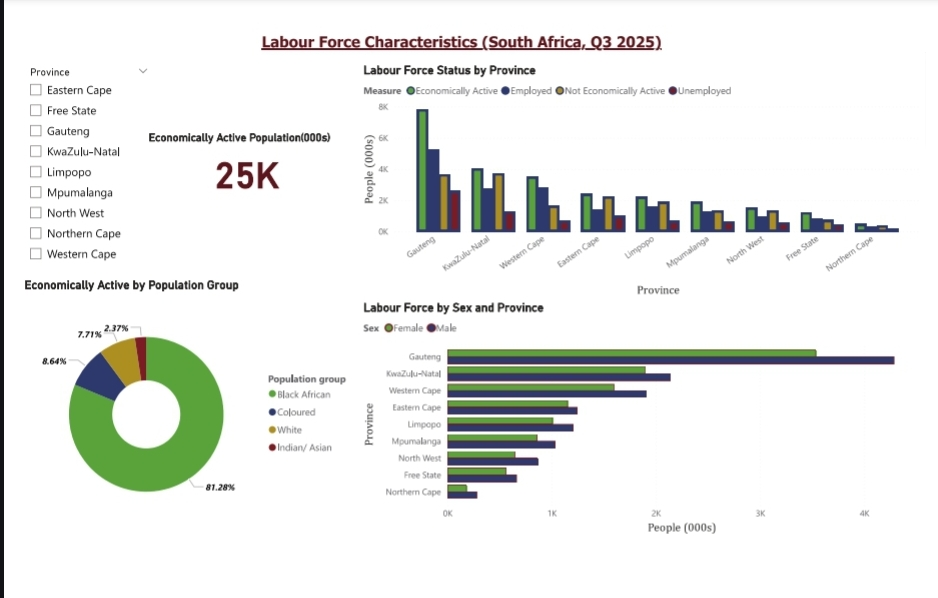

This screenshot's page, from the dashboard's own definition file:
{"tool":"powerbi","page":{"name":"Page 1","canvas":[1280,720],"ordinal":0},"visuals":[{"type":"clusteredColumnChart","title":"Labour Force Status by Province","fields":{"Y":["Sum(Sheet1.Persons(000s))"],"Series":["Sheet1.Measure"],"Category":["Sheet1.Province"]},"box":[480,47.8,800,336],"z":0},{"type":"slicer","fields":{"Values":["Sheet1.Province"]},"box":[0,48,192,288],"z":1000},{"type":"clusteredBarChart","title":"Labour Force by Sex and Province","fields":{"Category":["Sheet1.Province"],"Y":["Sum(Sheet1.Persons(000s))"],"Series":["Sheet1.Sex"]},"box":[480,384,800,336],"z":2000},{"type":"card","title":"Economically Active Population(15-64)","fields":{"Values":["Sum(Sheet1.Persons(000s))"]},"box":[192,47.8,288,96],"z":3000},{"type":"donutChart","title":"Economically Active by Population Group","fields":{"Y":["Sum(Sheet1.Persons(000s))"],"Category":["Sheet1.Population group"]},"box":[0,352,480,368],"z":4000},{"type":"textbox","box":[288,0,672,48],"z":5000}]}

Visuals, with their boxes on the page's 1280x720 design canvas (x1, y1, x2, y2). These are canvas units, not pixel positions in the 938x598 screenshot, which may show the page scaled, cropped or inside an application window:
"Labour Force Status by Province" clusteredColumnChart: [x1=480, y1=48, x2=1280, y2=384]
slicer - Sheet1.Province: [x1=0, y1=48, x2=192, y2=336]
"Labour Force by Sex and Province" clusteredBarChart: [x1=480, y1=384, x2=1280, y2=720]
"Economically Active Population(15-64)" card: [x1=192, y1=48, x2=480, y2=144]
"Economically Active by Population Group" donutChart: [x1=0, y1=352, x2=480, y2=720]
textbox: [x1=288, y1=0, x2=960, y2=48]
